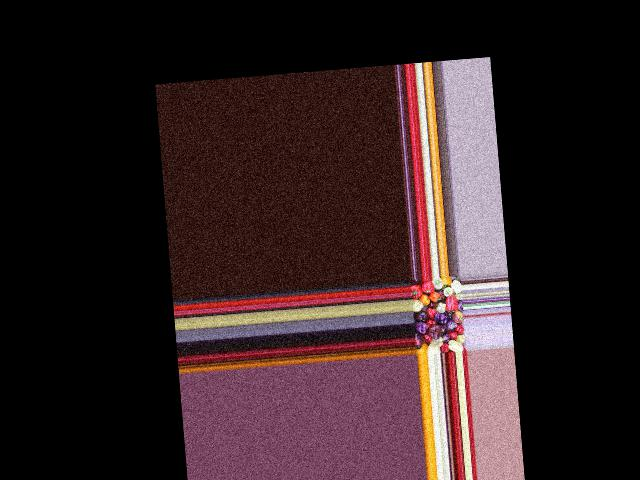bell_pepper: (432, 277, 442, 291)
